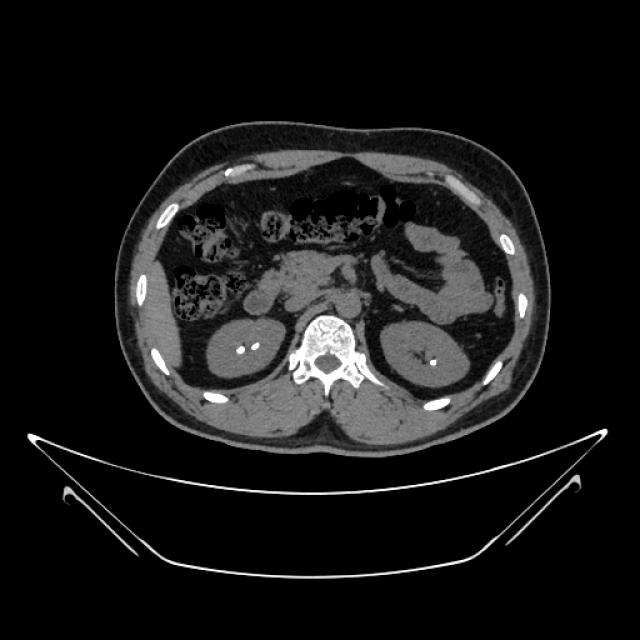kidneystone: (250, 341, 260, 351), (236, 345, 245, 354), (429, 359, 438, 367)
